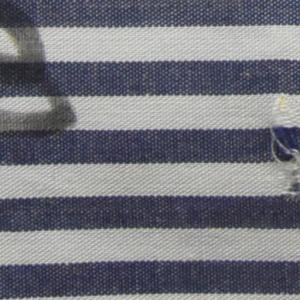Damage: (265, 92, 300, 207)
Stain: (1, 1, 83, 146)
